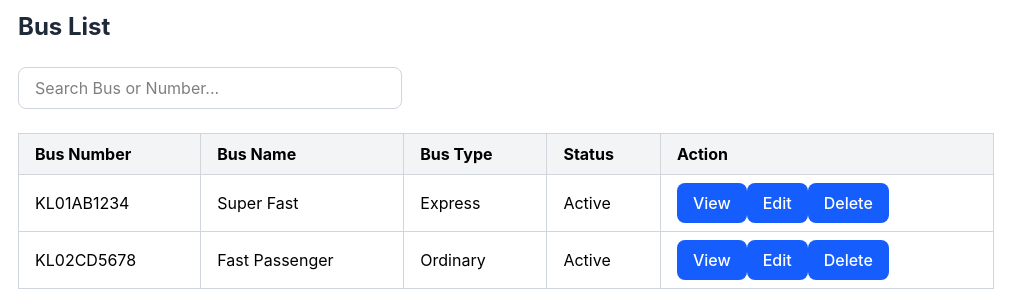
Test case: BusList - step 1 › should filter buses by bus number
Check: the text "KL01AB1234" is shown, box [18,174,201,232]
In the field: point(210, 88) [18,67,402,109], type "KL01"
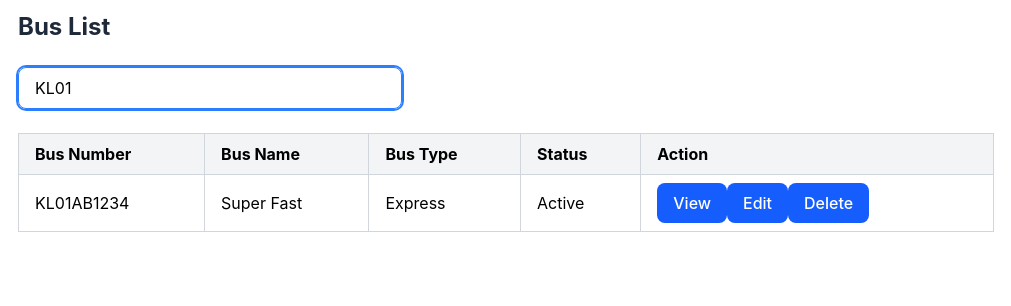
Check: the text "KL01AB1234" is shown, box [18,174,205,232]
Check: the text "KL02CD5678" is gone
